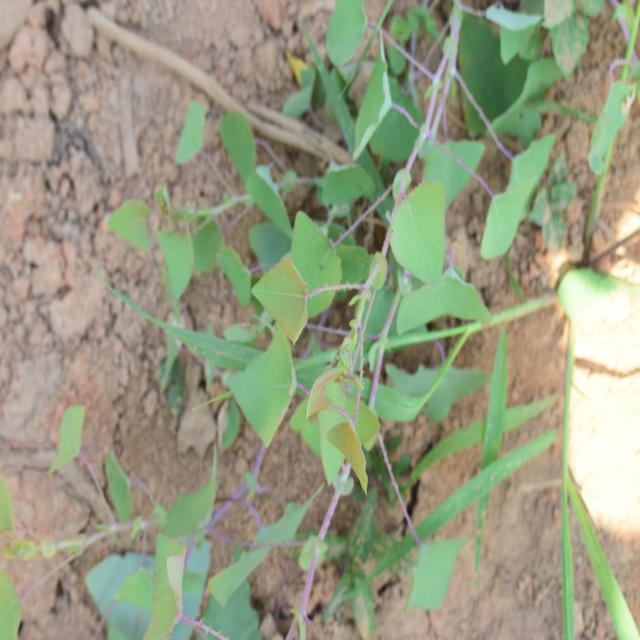Asiatic_Smartweed: (232, 256, 400, 479), (364, 77, 539, 278), (125, 87, 308, 271)
